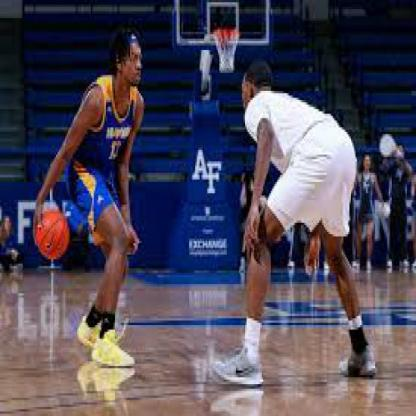basketball: (34, 209, 71, 259)
rim: (215, 27, 239, 41)
